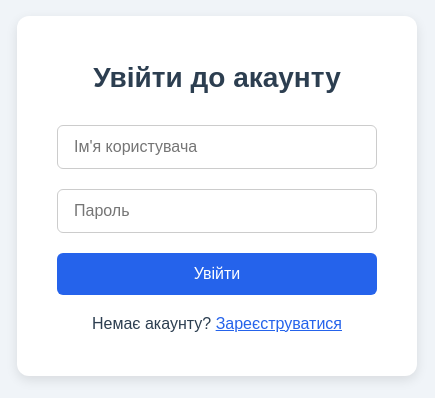
Test: LoginPage › switches to register form
Click the button "Зареєструватися".
click(279, 324)  # box top-left (216, 315), bottom-right (342, 333)
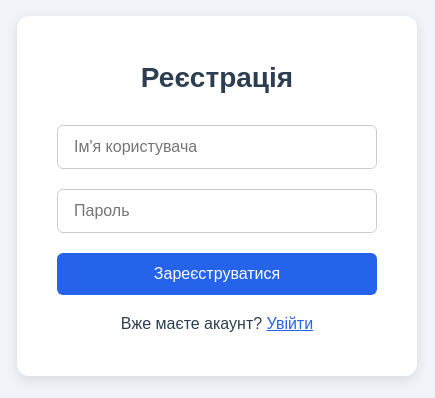
Now the button "Зареєструватися" is shown, box top-left (57, 253), bottom-right (377, 295)
Now the text "Вже маєте акаунт? Увійти" is shown, box top-left (121, 315), bottom-right (313, 333)
Now the button "Увійти" is shown, box top-left (267, 315), bottom-right (313, 333)
